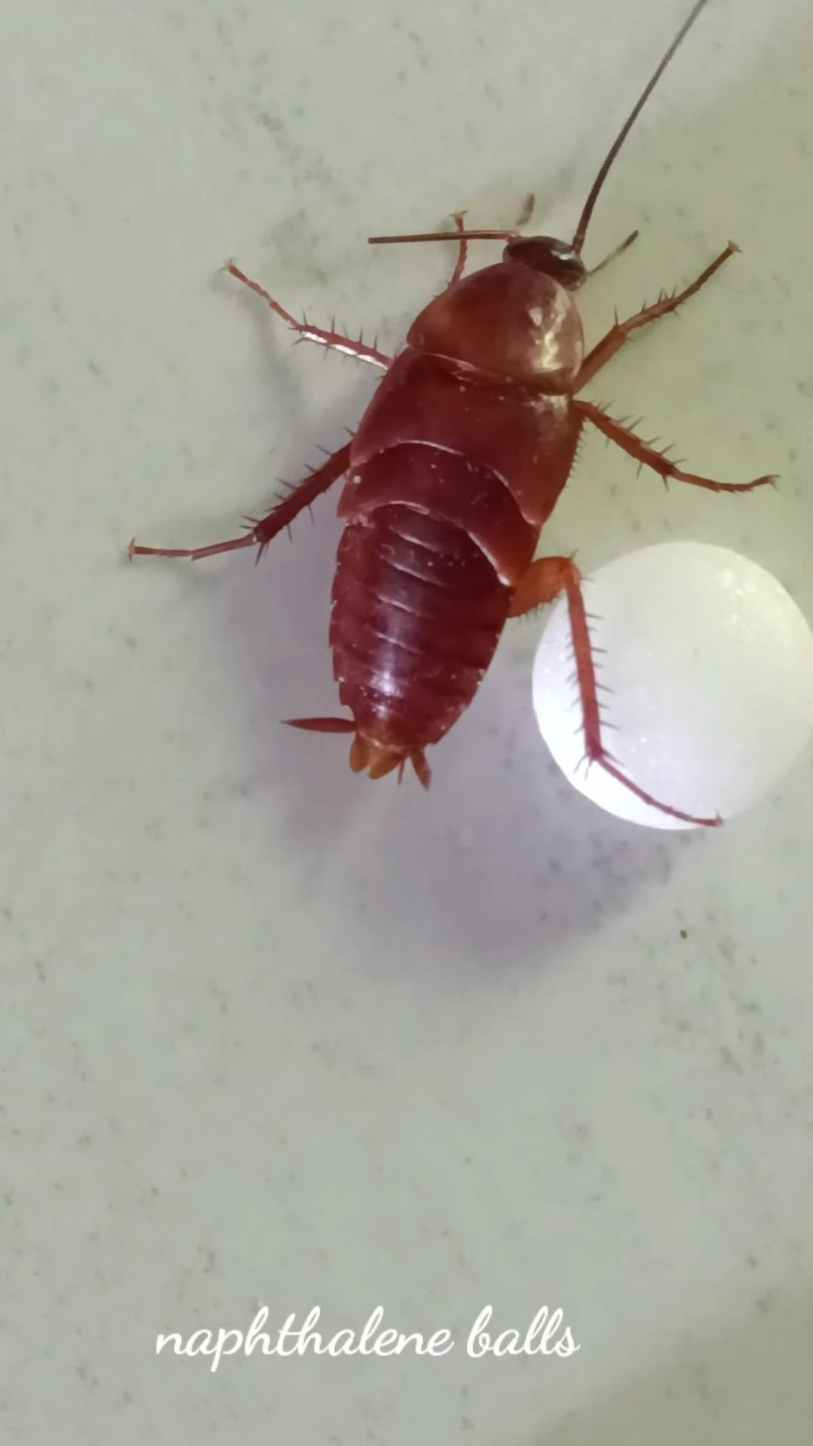cockroach: (132, 163, 547, 808)
